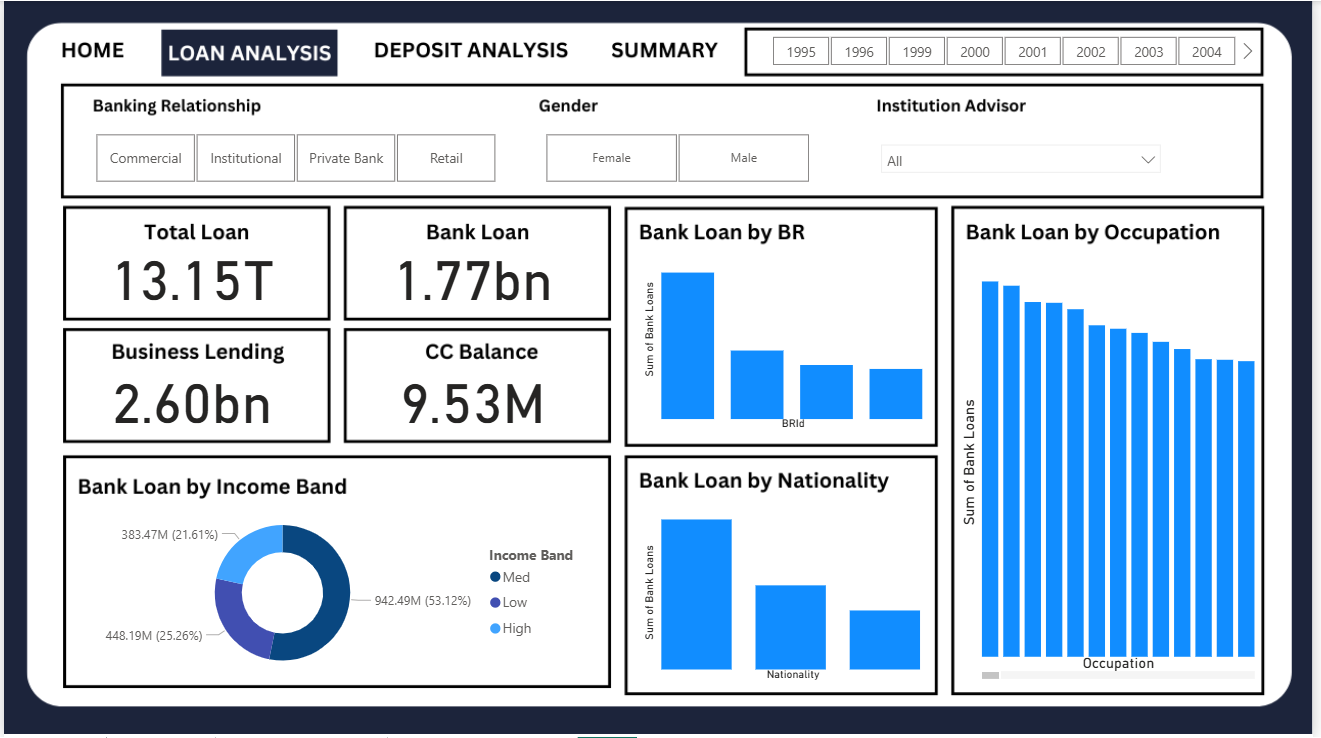

What the dashboard file says about the page in this screenshot:
{"tool":"powerbi","page":{"name":"Loan Analysis","canvas":[1280,720],"ordinal":1},"visuals":[{"type":"card","fields":{"Values":["Sum(banking_case customer.Total Loan)"]},"box":[33.3,215,300,101.7],"z":0},{"type":"card","fields":{"Values":["Sum(banking_case customer.Bank Loans)"]},"box":[308.3,215,300,101.7],"z":1},{"type":"card","fields":{"Values":["Sum(banking_case customer.Business Lending)"]},"box":[33.3,336.7,300,101.7],"z":2},{"type":"card","fields":{"Values":["Sum(banking_case customer.Credit Card Balance)"]},"box":[308.3,336.7,300,101.7],"z":3},{"type":"slicer","fields":{"Values":["banking_case customer.Year of Joining"]},"box":[726.7,28.3,501.7,41.7],"z":4},{"type":"donutChart","fields":{"Category":["banking_case customer.Income Band"],"Y":["Sum(banking_case customer.Bank Loans)"]},"box":[65,488.3,515,180],"z":5},{"type":"clusteredColumnChart","fields":{"Category":["banking_case customer.BRId"],"Y":["Sum(banking_case customer.Bank Loans)"]},"box":[620,218.3,285,205],"z":6},{"type":"clusteredColumnChart","fields":{"Y":["Sum(banking_case customer.Bank Loans)"],"Category":["banking_case customer.Nationality"]},"box":[620,488.3,285,180],"z":7},{"type":"clusteredColumnChart","fields":{"Category":["banking_case customer.Occupation"],"Y":["Sum(banking_case customer.Bank Loans)"]},"box":[930,246.7,298.3,421.7],"z":8},{"type":"slicer","fields":{"Values":["banking_case customer.BRId"]},"box":[65,123.3,440,60],"z":9},{"type":"slicer","fields":{"Values":["banking_case customer.GenderId"]},"box":[505,123.3,306.7,60],"z":10},{"type":"slicer","fields":{"Values":["banking_case customer.IAId"]},"box":[848.9,130,293.3,46.7],"z":11},{"type":"actionButton","box":[48.3,28.3,80,41.7],"z":12},{"type":"actionButton","box":[348.3,28.3,215,41.7],"z":13}]}

Visuals, with their boxes in screenshot pixels (x1, y1, x2, y2), scaled from the page's 1280x720 canvas onto the 1321x738 screenshot:
card - Sum(banking_case customer.Total Loan): BBox(34, 220, 344, 325)
card - Sum(banking_case customer.Bank Loans): BBox(318, 220, 628, 325)
card - Sum(banking_case customer.Business Lending): BBox(34, 345, 344, 449)
card - Sum(banking_case customer.Credit Card Balance): BBox(318, 345, 628, 449)
slicer - banking_case customer.Year of Joining: BBox(750, 29, 1268, 72)
donutChart - banking_case customer.Income Band x Sum(banking_case customer.Bank Loans): BBox(67, 501, 599, 685)
clusteredColumnChart - banking_case customer.BRId x Sum(banking_case customer.Bank Loans): BBox(640, 224, 934, 434)
clusteredColumnChart - Sum(banking_case customer.Bank Loans) x banking_case customer.Nationality: BBox(640, 501, 934, 685)
clusteredColumnChart - banking_case customer.Occupation x Sum(banking_case customer.Bank Loans): BBox(960, 253, 1268, 685)
slicer - banking_case customer.BRId: BBox(67, 126, 521, 188)
slicer - banking_case customer.GenderId: BBox(521, 126, 838, 188)
slicer - banking_case customer.IAId: BBox(876, 133, 1179, 181)
actionButton: BBox(50, 29, 132, 72)
actionButton: BBox(359, 29, 581, 72)
